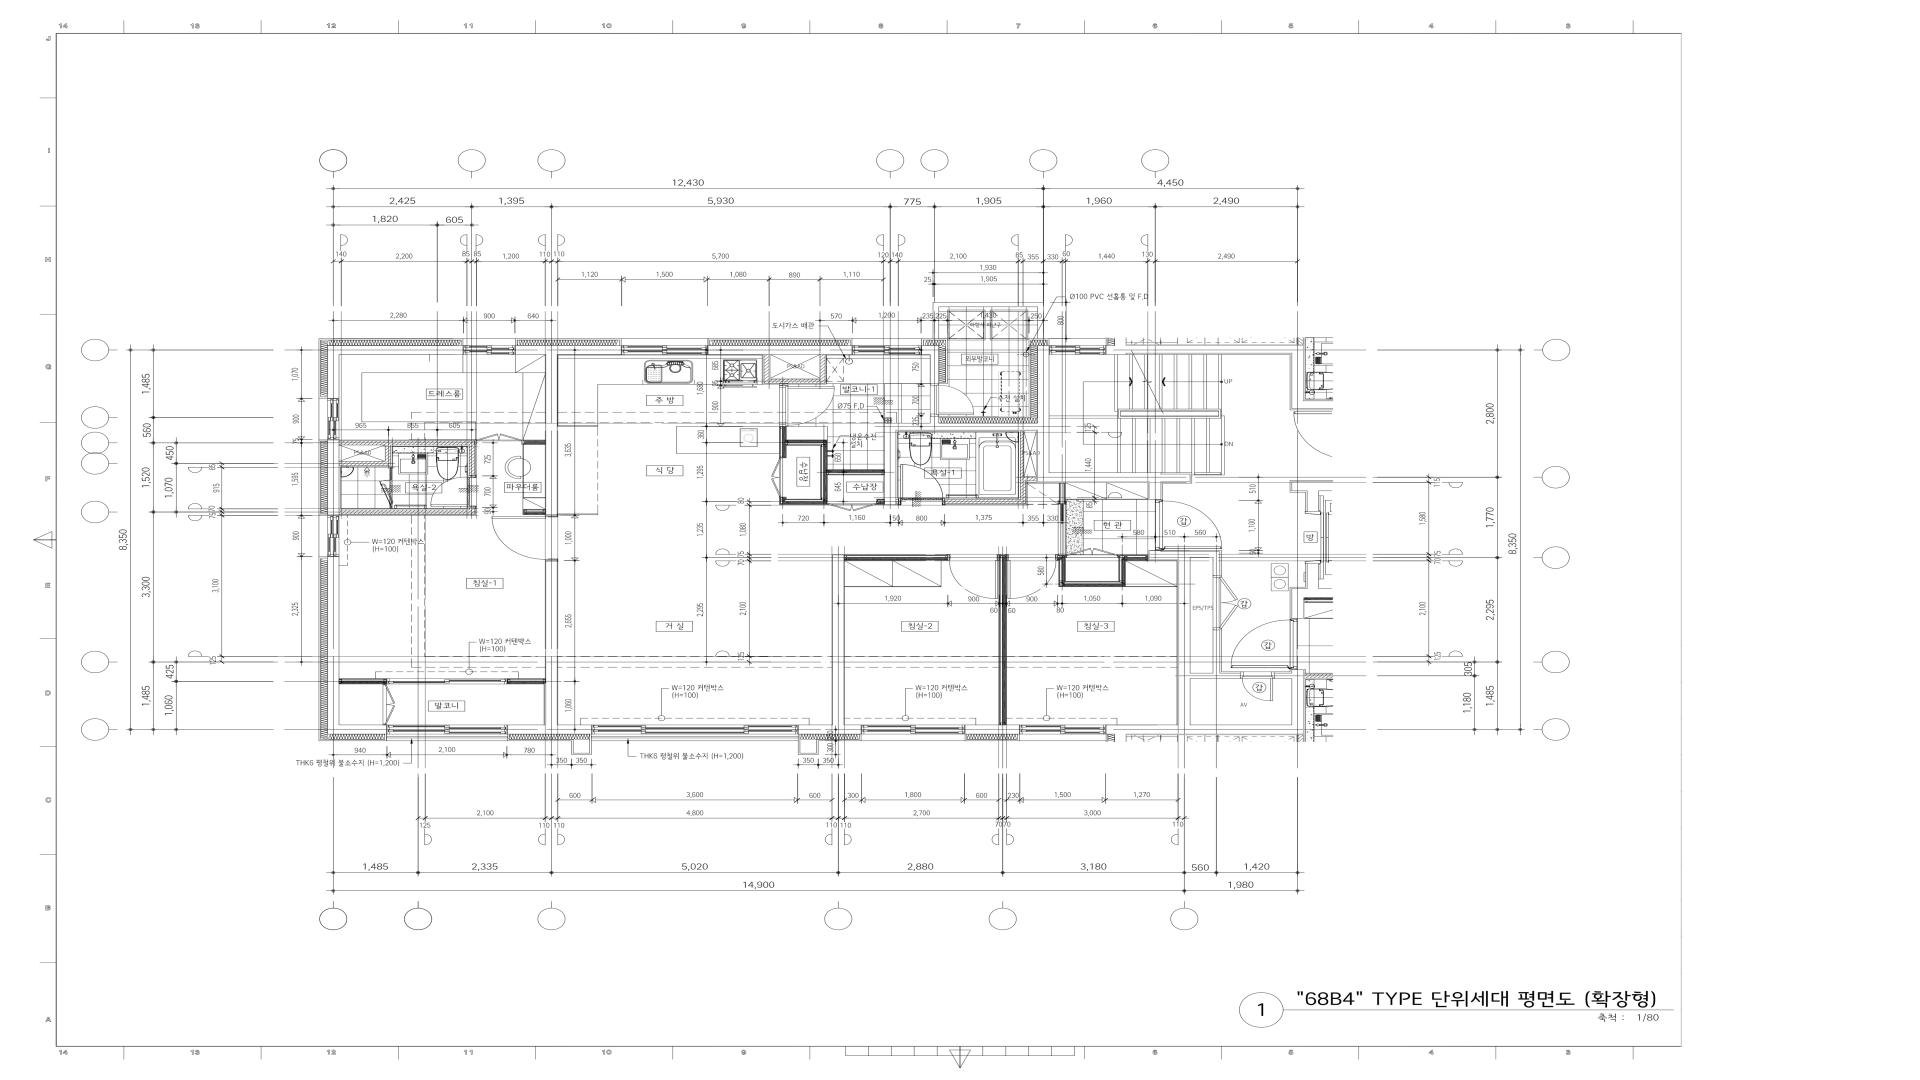door: (1155, 500, 1222, 550), (491, 517, 558, 562), (779, 385, 836, 426), (948, 554, 998, 599), (1007, 554, 1058, 599), (898, 468, 939, 505), (930, 384, 975, 417), (430, 477, 477, 506), (382, 684, 396, 725), (1058, 504, 1067, 555)
wall: (832, 555, 845, 725), (545, 560, 558, 725), (1178, 560, 1191, 725), (545, 355, 558, 517), (327, 556, 339, 735), (1105, 345, 1290, 355), (1038, 345, 1050, 481), (998, 554, 1007, 725), (708, 345, 852, 355), (1050, 472, 1192, 481), (327, 345, 463, 355), (339, 508, 476, 516), (885, 423, 1038, 430), (516, 345, 621, 355), (327, 439, 339, 516), (339, 439, 476, 446), (885, 430, 897, 505), (844, 554, 948, 562), (506, 725, 592, 735), (1106, 725, 1191, 735), (1290, 345, 1303, 401), (932, 302, 1044, 307), (798, 725, 861, 735), (939, 498, 1019, 505), (327, 355, 339, 398), (965, 725, 1019, 735), (1019, 430, 1026, 505), (1290, 481, 1332, 492), (339, 725, 386, 735), (1150, 550, 1191, 560), (1290, 401, 1332, 410), (930, 345, 939, 384), (762, 378, 827, 384), (823, 439, 828, 501), (339, 678, 388, 684), (467, 446, 476, 476), (506, 678, 545, 684), (828, 469, 885, 473), (1064, 583, 1121, 587), (1150, 481, 1162, 500), (932, 307, 939, 339), (1038, 307, 1044, 339), (339, 462, 390, 465), (779, 501, 828, 505), (1191, 551, 1220, 558), (762, 355, 770, 378), (820, 355, 827, 378), (1059, 481, 1065, 504), (786, 439, 823, 443), (782, 426, 786, 458), (522, 439, 545, 444), (524, 509, 545, 514), (1121, 560, 1125, 587), (1062, 555, 1064, 587), (385, 446, 390, 462), (1122, 558, 1150, 560), (922, 345, 930, 355), (1026, 476, 1038, 481), (930, 417, 939, 423), (558, 513, 599, 514), (558, 426, 599, 427), (877, 498, 885, 505), (389, 465, 392, 480), (411, 516, 425, 518), (779, 384, 789, 386), (779, 497, 785, 501), (467, 506, 476, 508), (467, 476, 476, 477), (1058, 558, 1062, 560), (895, 500, 898, 504)
window: (592, 725, 798, 735), (386, 725, 506, 735), (861, 725, 965, 735), (1019, 725, 1106, 735), (621, 345, 708, 355), (388, 678, 506, 684), (852, 345, 922, 355), (1050, 345, 1106, 355), (463, 345, 516, 355), (327, 516, 339, 556), (327, 398, 339, 439)
